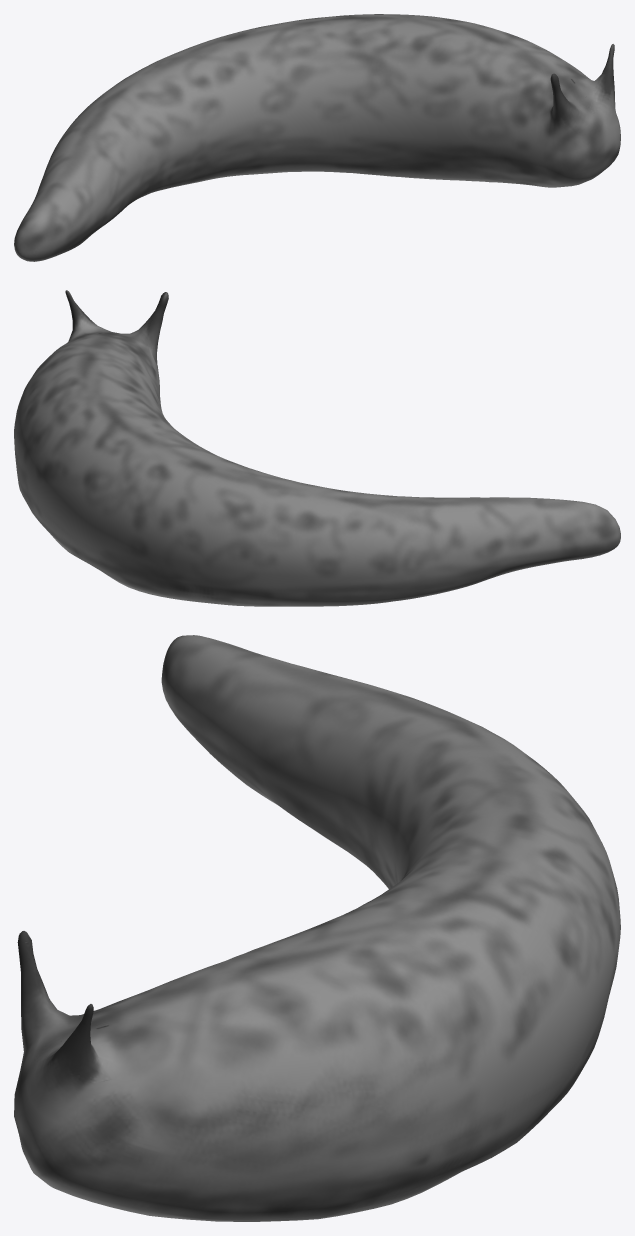
File: car.glb
3 views of the same model, one above another, from view 1: azimuth 30°, elevation 25°; view 2: azimuth 150°, elevation 25°; view 3: azimuth 270°, elevation 25° (orthographic). The views are drawn at different scales.
Visible parts, largest first — view 1: btc; view 2: btc; view 3: btc.
Boxes of the visible parts, x1,y1,x2,y2 form: btc: [14, 14, 620, 261]; btc: [14, 290, 620, 606]; btc: [14, 635, 620, 1221].
Size of the model in its own units: 2.4 by 0.6184 by 1.25.
Materials: 1 (1 with a texture image).
